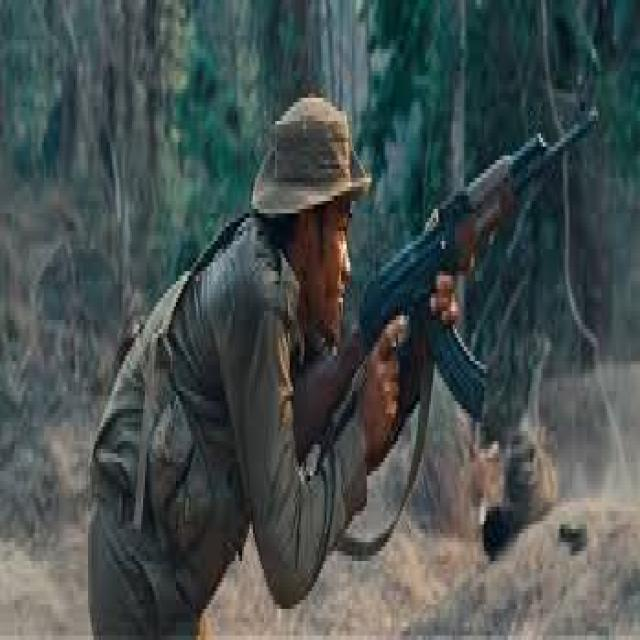Rifle: (287, 99, 601, 475)
